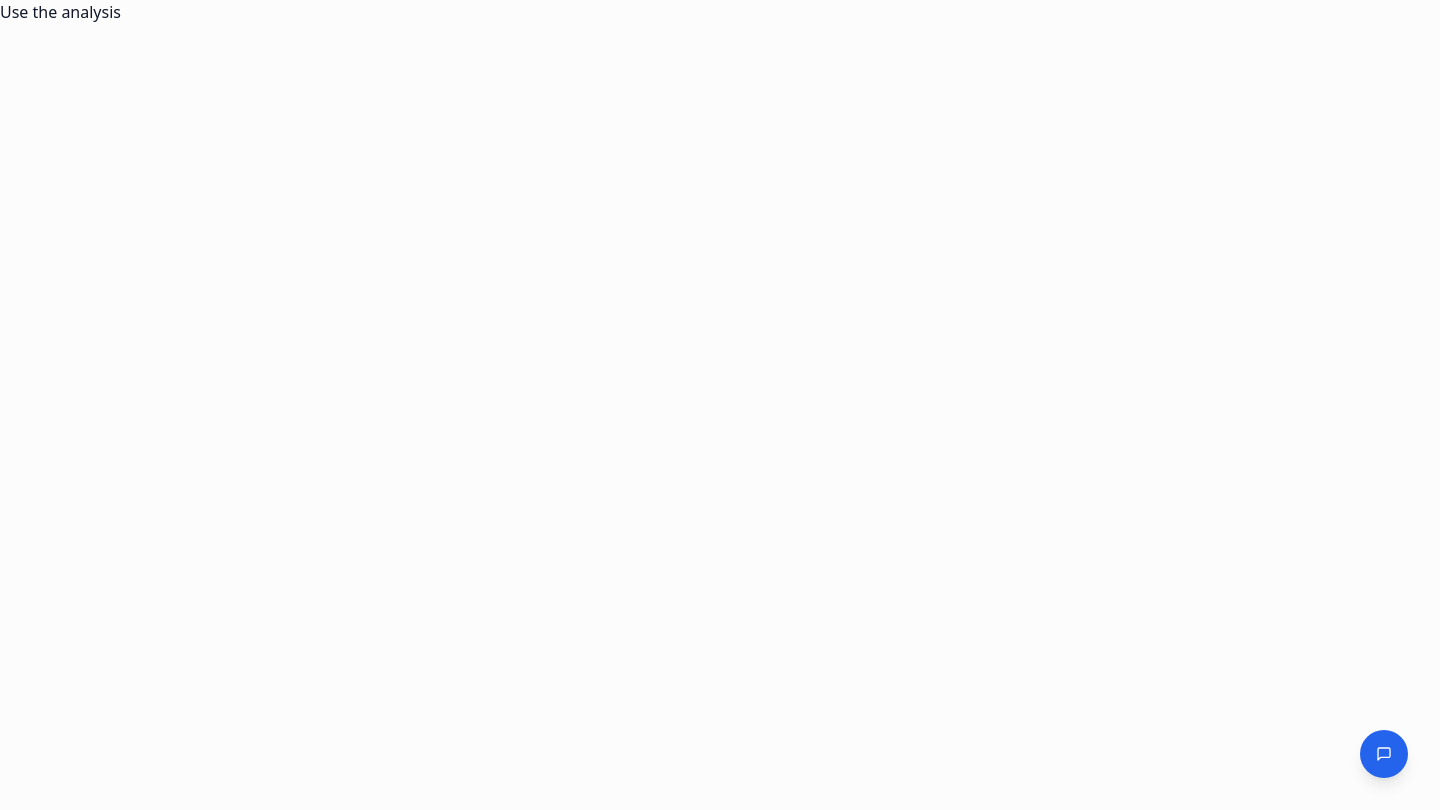
AnalysisChatBubble › sends the active analysis and latest whitelisted editor values only after a submitted question
Later steps or results of the test are not shown.
Click the button named "Chat about this analysis" at x=1384, y=754, box [1360,730,1408,778]
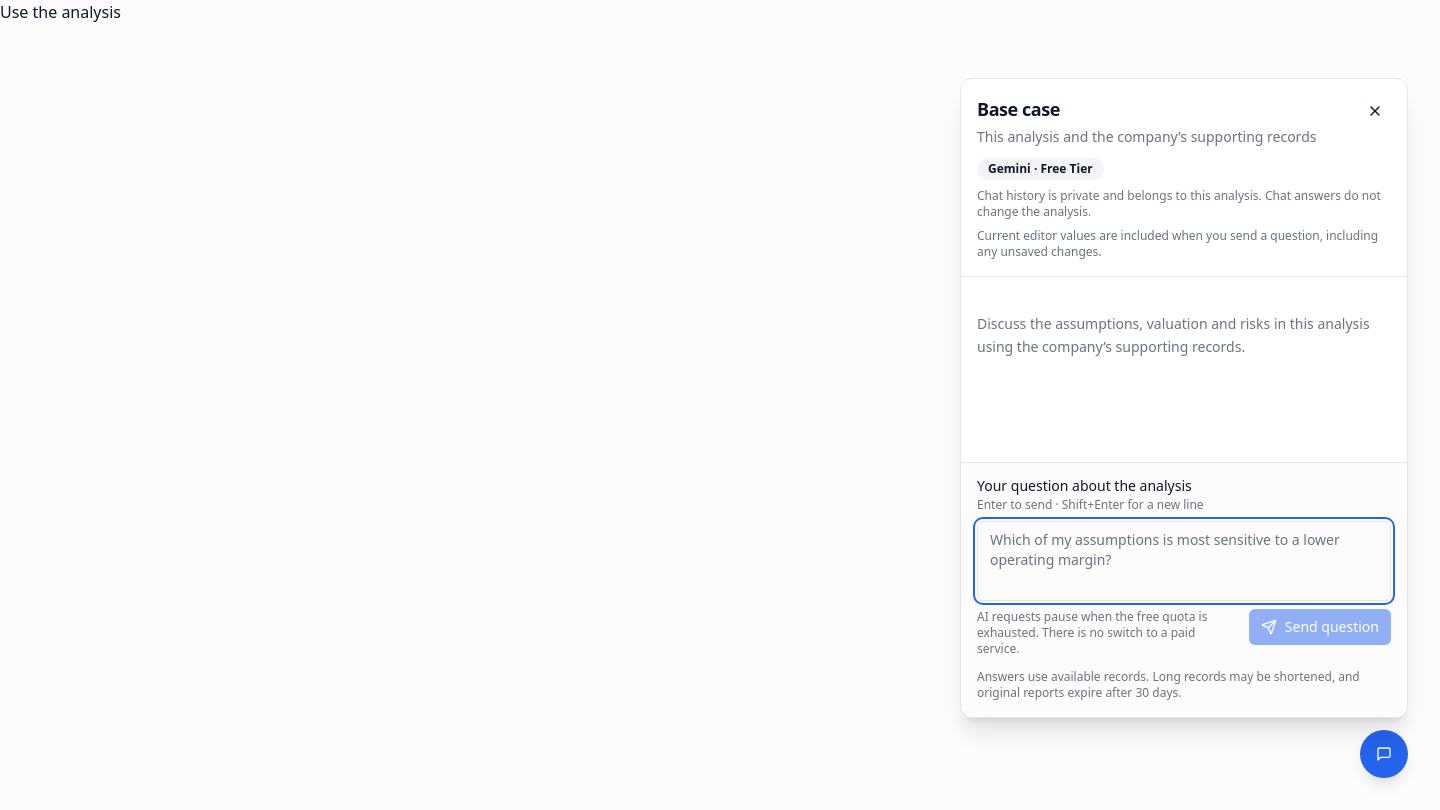
Result: the text box labelled "Your question about the analysis" is enabled at [977,521,1391,601]
